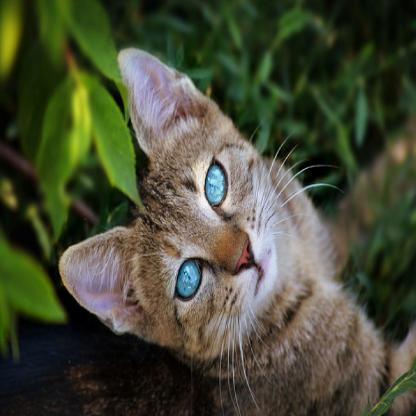cat: (56, 48, 415, 415)
